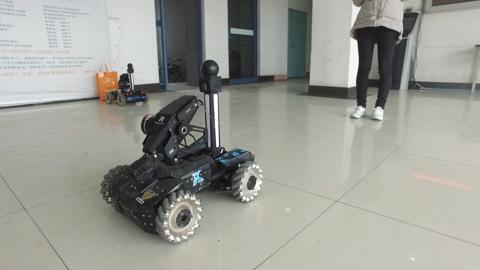bag: (86, 60, 125, 103)
chariot: (99, 57, 265, 246), (101, 63, 150, 108)
